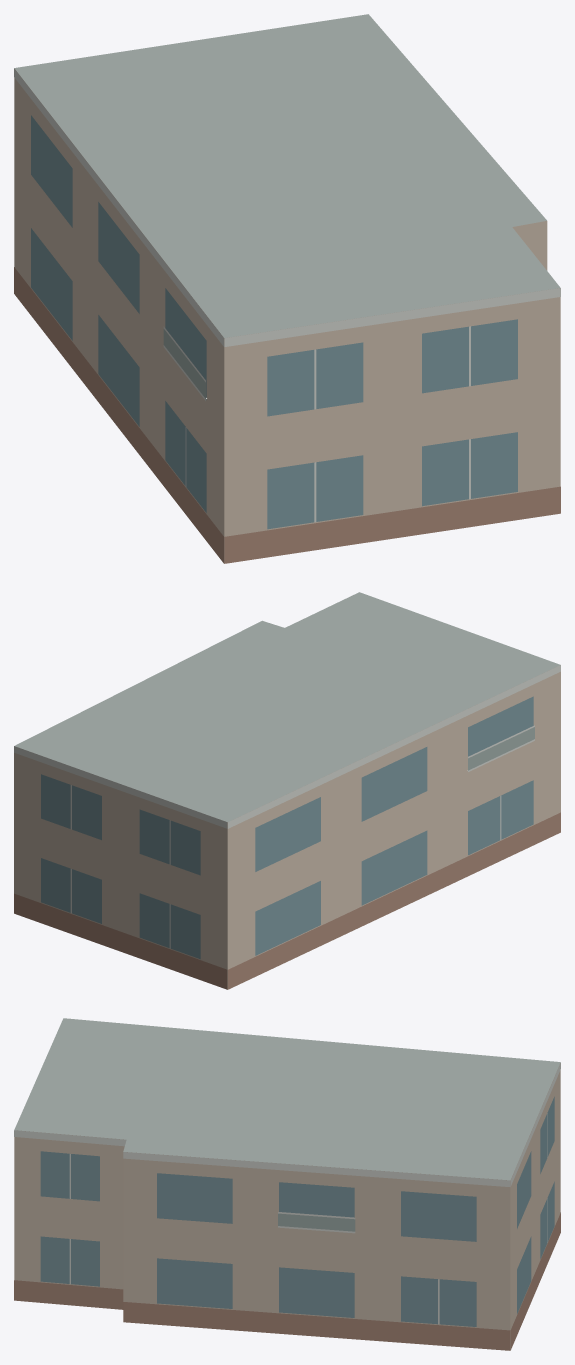
Rendered from survey-upis-32883187.glb.
3 renders of one model, top to bottom at view 1: azimuth 30°, elevation 25°; view 2: azimuth 150°, elevation 25°; view 3: azimuth 270°, elevation 25°, orthographic. The views are drawn at different scales.
Visible parts, largest first — view 1: survey-upis-32883187.tmp; view 2: survey-upis-32883187.tmp; view 3: survey-upis-32883187.tmp.
Part boxes in pixels (<box>): survey-upis-32883187.tmp: <box>14,14,560,563</box>; survey-upis-32883187.tmp: <box>14,592,560,989</box>; survey-upis-32883187.tmp: <box>14,1018,560,1350</box>.
Bounding box in the file's own units: 12.47 × 6.1 × 17.75.
